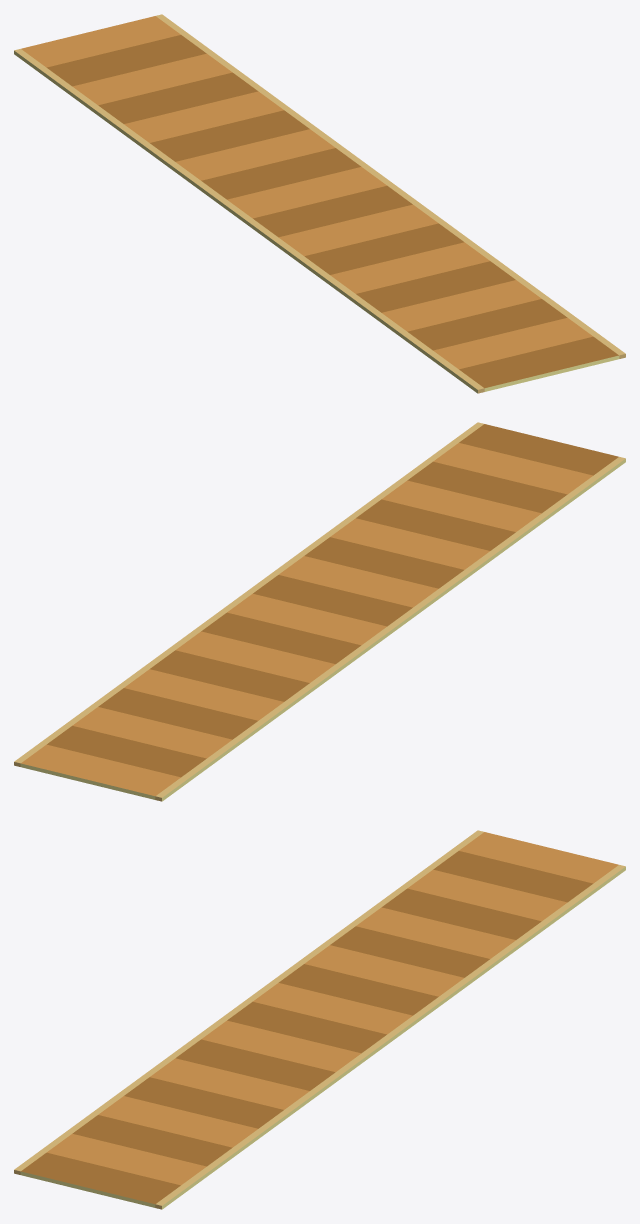
The model's file is Platform.fbx.
3 views of the same model, one above another, from view 1: azimuth 30°, elevation 25°; view 2: azimuth 150°, elevation 25°; view 3: azimuth 330°, elevation 25° (orthographic).
Parts seen in each view (by area): view 1: Plane; view 2: Plane; view 3: Plane.
Boxes of the visible parts, x1=… form: Plane: x1=14, y1=14, x2=625, y2=393; Plane: x1=14, y1=422, x2=625, y2=801; Plane: x1=14, y1=830, x2=625, y2=1209.
Bounding box in the file's own units: 116 × 2.83 × 631.
